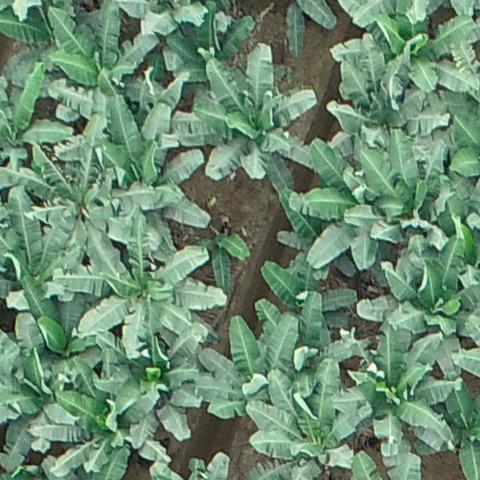Banana-plant: (51, 215, 223, 346), (364, 236, 480, 373), (2, 312, 99, 474), (199, 47, 317, 179), (28, 146, 153, 269), (98, 97, 207, 235), (330, 0, 480, 95), (248, 360, 371, 471), (336, 329, 451, 445), (349, 132, 464, 247), (96, 329, 207, 445), (331, 49, 448, 157), (298, 137, 389, 267), (29, 389, 157, 475), (197, 311, 298, 417), (42, 3, 157, 93), (0, 185, 75, 307), (256, 251, 358, 338), (0, 61, 74, 174), (154, 0, 253, 81), (432, 378, 480, 480)
